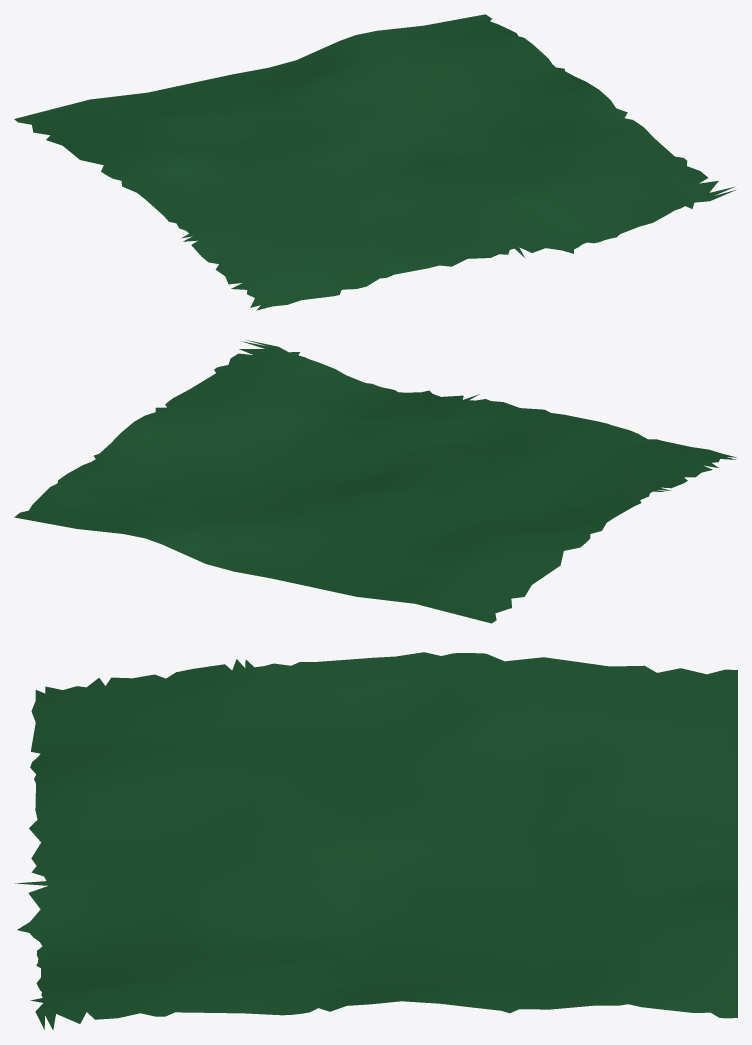
The model's file is payo_land_xm3_ym4_lod2.glb.
3 views of the same model, one above another, from view 1: azimuth 30°, elevation 25°; view 2: azimuth 150°, elevation 25°; view 3: azimuth 270°, elevation 25° (orthographic). The views are drawn at different scales.
Parts seen in each view (by area): view 1: payo_land_xm3_ym4; view 2: payo_land_xm3_ym4; view 3: payo_land_xm3_ym4.
Part boxes in pixels (left/top/right/bottom): payo_land_xm3_ym4: left=14, top=14, right=735, bottom=310; payo_land_xm3_ym4: left=14, top=339, right=736, bottom=623; payo_land_xm3_ym4: left=15, top=652, right=737, bottom=1030.
Size of the model in its own units: 269 by 21.8 by 238.
